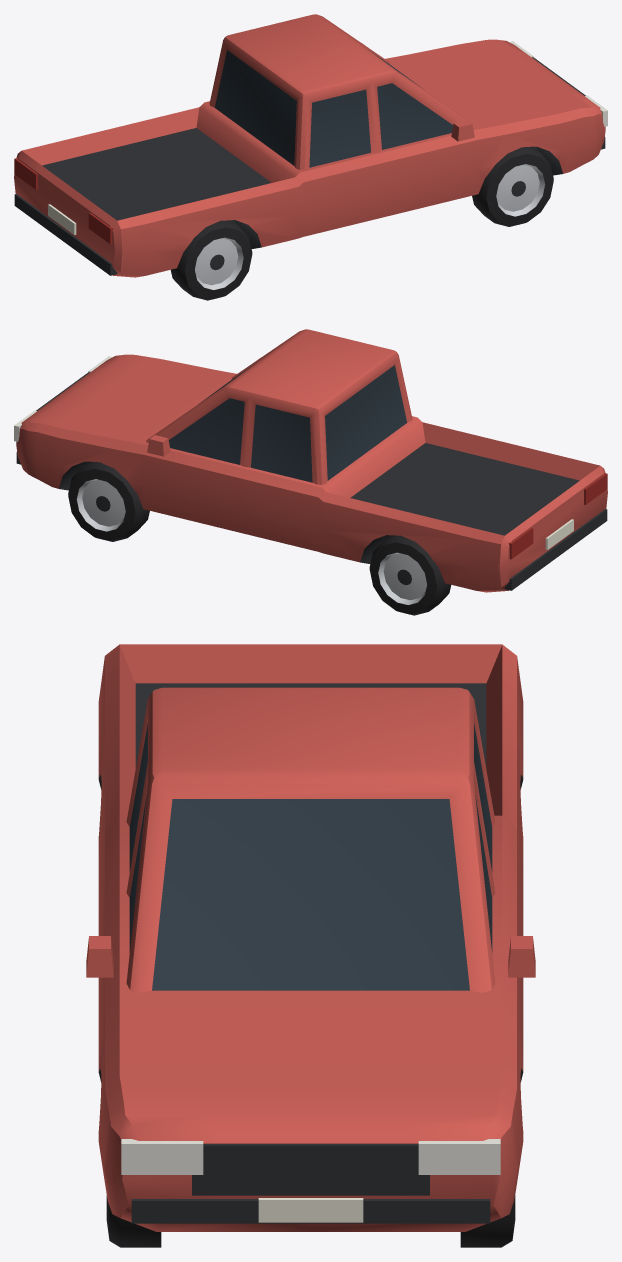
File: pickup.glb
3 views of the same model, one above another, from view 1: azimuth 30°, elevation 25°; view 2: azimuth 150°, elevation 25°; view 3: azimuth 270°, elevation 25° (orthographic). The views are drawn at different scales.
Visible parts, largest first — view 1: pickup; view 2: pickup; view 3: pickup.
Boxes of the visible parts, x1,y1,x2,y2 form: pickup: (14, 14, 607, 300); pickup: (14, 329, 607, 615); pickup: (86, 644, 535, 1247).
Bounding box in the file's own units: 5.06 × 1.71 × 1.97.
